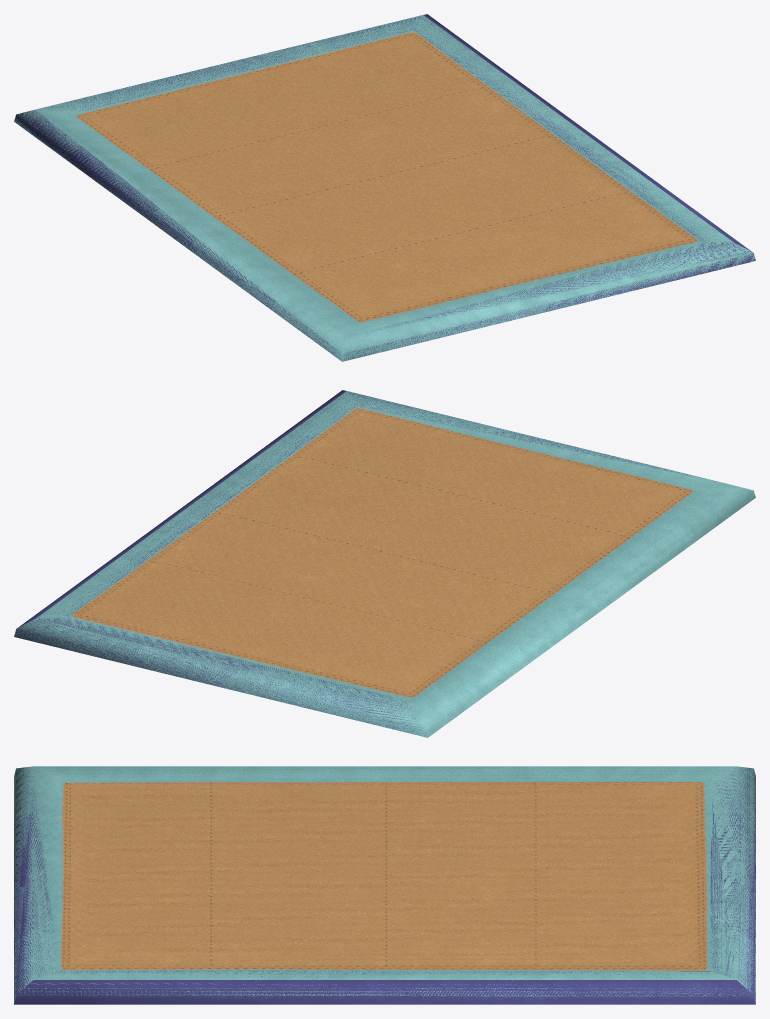
The model's file is Mats.fbx.
3 views of the same model, one above another, from view 1: azimuth 30°, elevation 25°; view 2: azimuth 150°, elevation 25°; view 3: azimuth 270°, elevation 25° (orthographic). The views are drawn at different scales.
Visible parts, largest first — view 1: Mat_1, Mat_2; view 2: Mat_1, Mat_2; view 3: Mat_1, Mat_2.
Boxes of the visible parts, box(x1,y1,x2,y2) form: Mat_1: box(14, 15, 755, 361); Mat_2: box(14, 14, 755, 360); Mat_1: box(14, 391, 755, 737); Mat_2: box(14, 390, 705, 736); Mat_1: box(14, 766, 755, 1003); Mat_2: box(14, 767, 755, 1004).
Bounding box in the file's own units: 0.5 × 0.0176 × 0.6868.
